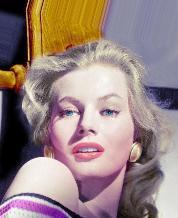face: (58, 97, 118, 161)
